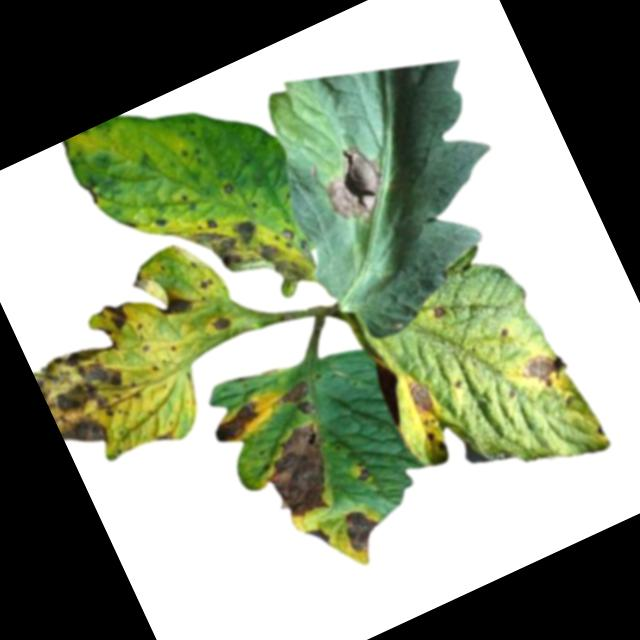Early_blight: (185, 185, 320, 321), (29, 326, 152, 455), (252, 419, 350, 527), (308, 139, 392, 228), (205, 395, 266, 448), (511, 342, 571, 395), (334, 502, 387, 558), (151, 284, 201, 327), (276, 378, 319, 423), (401, 374, 441, 422), (98, 294, 131, 333), (301, 521, 333, 553), (422, 422, 450, 455), (205, 311, 233, 336), (125, 267, 151, 293), (349, 457, 372, 483), (155, 424, 182, 446), (150, 207, 171, 230), (428, 299, 449, 322), (218, 179, 237, 197)
